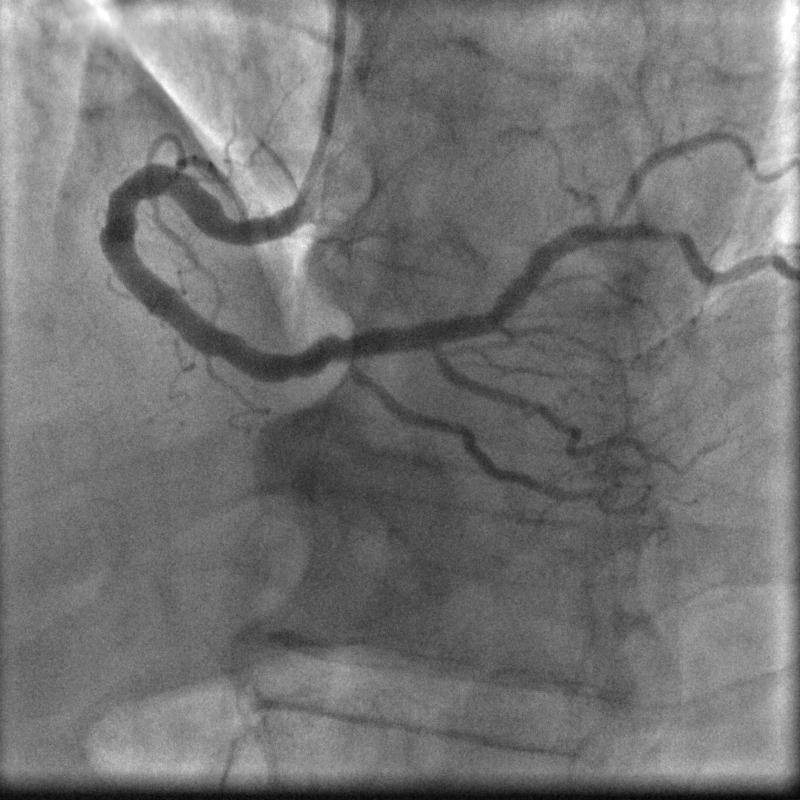Stenosis: (625, 216, 689, 250)
